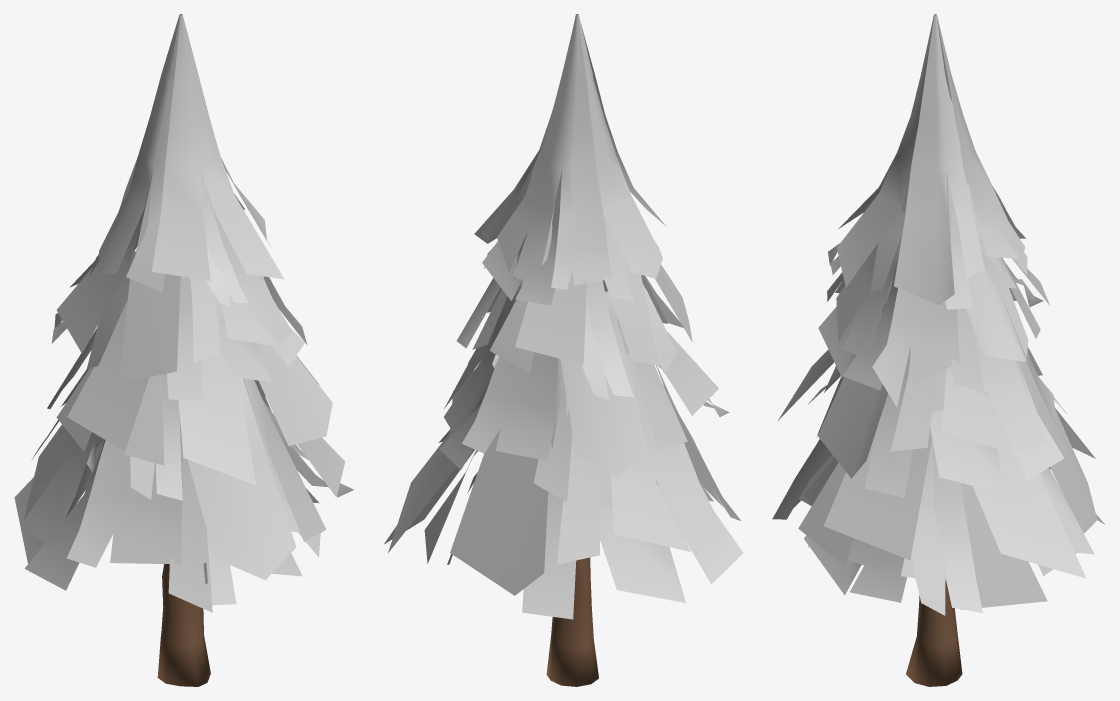
File: brad1.fbx
3 renders of one model, left to right at view 1: azimuth 30°, elevation 25°; view 2: azimuth 150°, elevation 25°; view 3: azimuth 270°, elevation 25°, orthographic.
Visible parts, largest first — view 1: Cylinder.003, Cylinder, Cylinder.001, Cylinder.002, Cylinder.004; view 2: Cylinder.003, Cylinder, Cylinder.002, Cylinder.001, Cylinder.004; view 3: Cylinder.003, Cylinder, Cylinder.002, Cylinder.001, Cylinder.004.
Boxes of the visible parts, left/top/right/bottom form: Cylinder.003: left=14, top=368, right=353, bottom=612; Cylinder: left=89, top=14, right=284, bottom=307; Cylinder.001: left=51, top=168, right=307, bottom=400; Cylinder.002: left=47, top=251, right=332, bottom=500; Cylinder.004: left=157, top=564, right=210, bottom=686; Cylinder.003: left=384, top=275, right=743, bottom=619; Cylinder: left=474, top=14, right=665, bottom=305; Cylinder.002: left=439, top=280, right=729, bottom=502; Cylinder.001: left=457, top=154, right=692, bottom=401; Cylinder.004: left=546, top=557, right=598, bottom=686; Cylinder.003: left=772, top=361, right=1104, bottom=615; Cylinder: left=828, top=14, right=1027, bottom=309; Cylinder.002: left=777, top=263, right=1067, bottom=497; Cylinder.001: left=818, top=170, right=1049, bottom=406; Cylinder.004: left=906, top=579, right=962, bottom=686.
Bounding box in the file's own units: 378 × 770 × 352.
